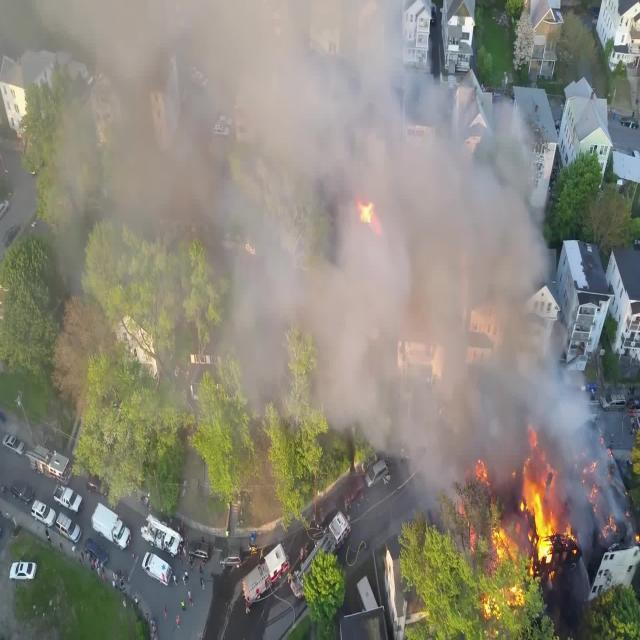Smoke: (143, 12, 409, 276), (364, 284, 554, 462)
